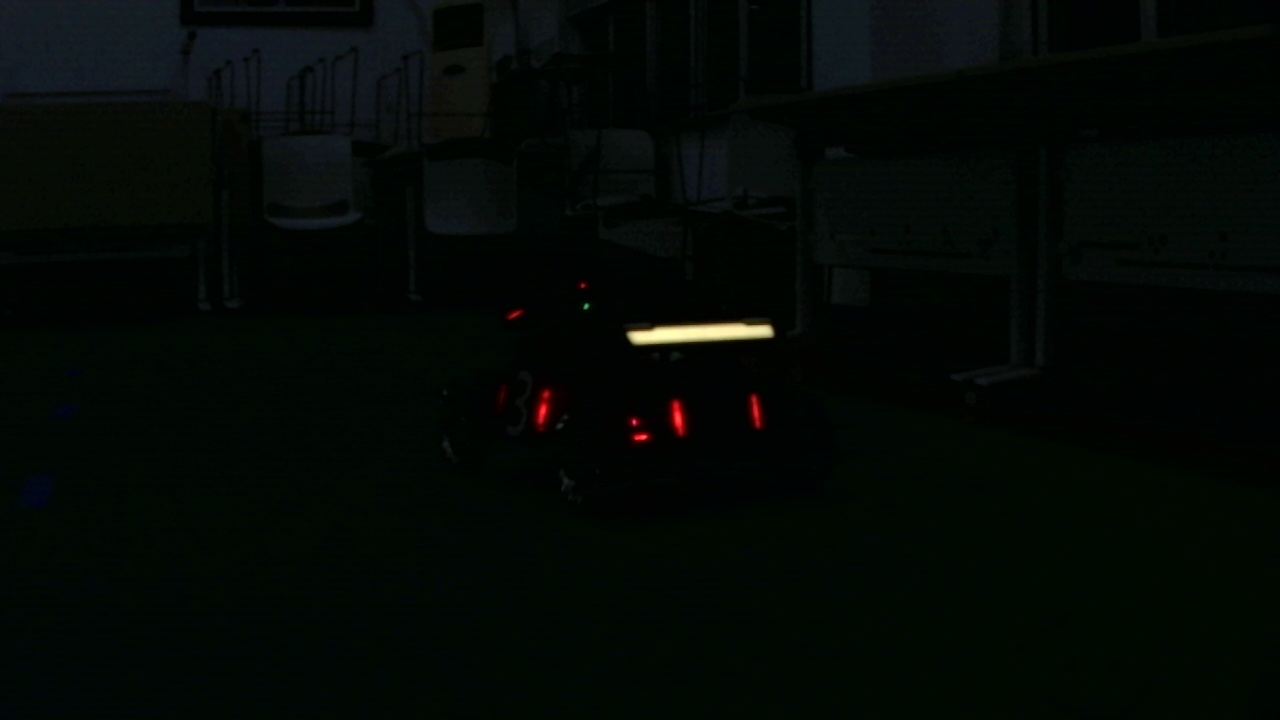lamp: (670, 387, 687, 445), (747, 387, 763, 431), (537, 382, 550, 430)
notpair1: (536, 382, 688, 443)
pair1: (670, 388, 764, 442)
